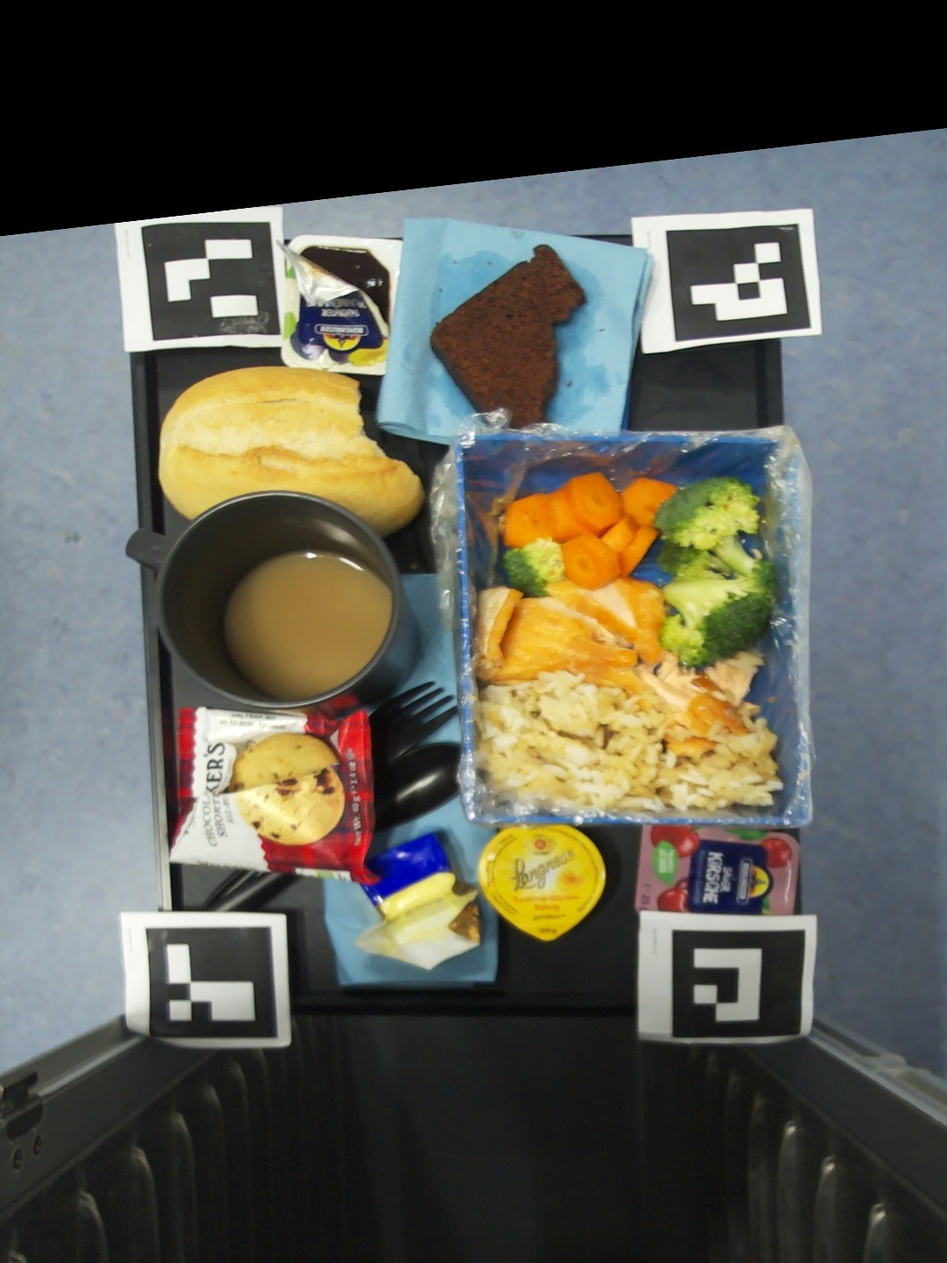bread_roll: (158, 366, 425, 538)
broccoli: (654, 476, 775, 667), (504, 538, 568, 598)
brownie: (430, 244, 588, 429)
butter: (356, 831, 481, 970)
carrots: (503, 471, 678, 591)
cherry_jam: (634, 825, 799, 915)
coffee_cup: (125, 492, 423, 718)
cookie: (168, 706, 381, 886)
fish_salmon: (476, 576, 765, 758)
honey: (478, 825, 606, 942)
plum_jam: (277, 234, 403, 376)
rice: (476, 671, 784, 812)
